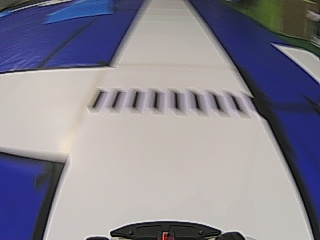CrossWalk: (89, 89, 243, 117)
